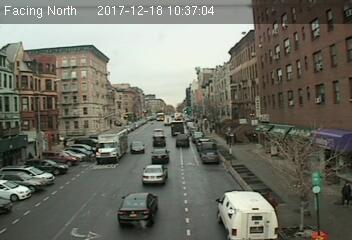car: (115, 190, 159, 228), (141, 163, 167, 185), (151, 149, 169, 164), (202, 149, 219, 162), (130, 140, 145, 154), (176, 134, 190, 147), (152, 135, 165, 146)
truck: (216, 189, 275, 240), (95, 128, 126, 161)
ups: (170, 121, 184, 135)
